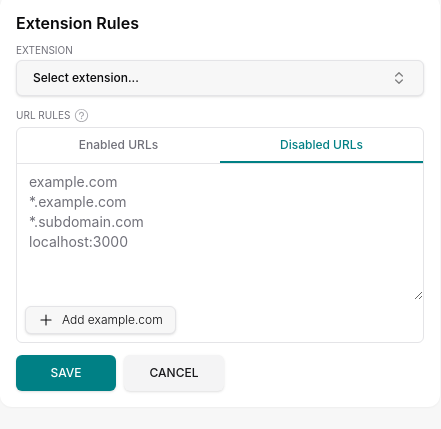
it: ExtensionRules › shows a validation error when submitting without an extension selected
Click the button "Save".
click(66, 373)  # box x1=16 y1=355 x2=116 y2=391
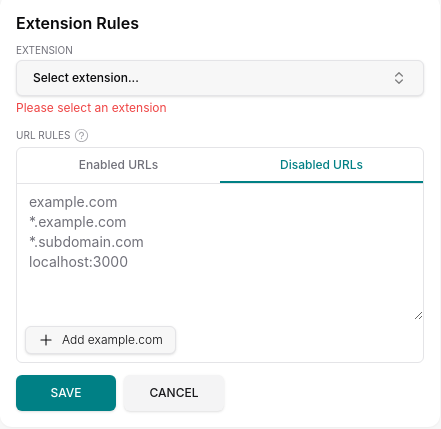
Check: the text "Please select an extension" is shown, box x1=16 y1=100 x2=167 y2=115
